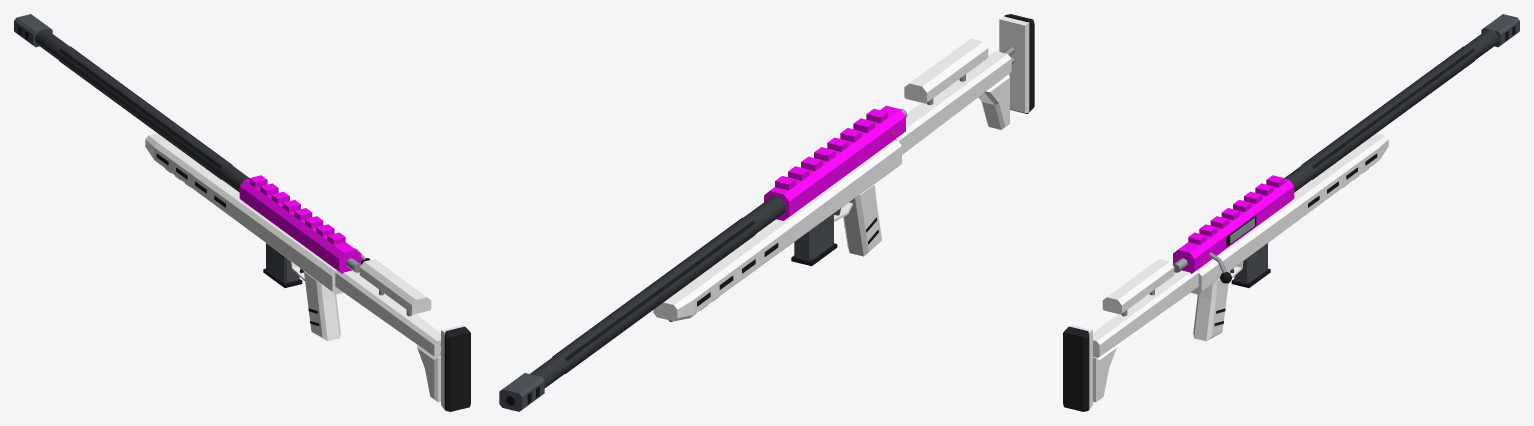
The model's file is rifle_sniper.glb.
The picture shows the model from 3 angles, left to right: view 1: azimuth 30°, elevation 25°; view 2: azimuth 150°, elevation 25°; view 3: azimuth 330°, elevation 25°; orthographic projection. The views are drawn at different scales.
Parts seen in each view (by area): view 1: rifle_sniper__body, rifle_sniper__mag; view 2: rifle_sniper__body, rifle_sniper__mag; view 3: rifle_sniper__body, rifle_sniper__mag, rifle_sniper__bolt.
Part boxes in pixels (x1,y1,x2,y2): rifle_sniper__body: (14,14,470,411); rifle_sniper__mag: (263,243,302,287); rifle_sniper__body: (499,14,1034,411); rifle_sniper__mag: (791,213,837,266); rifle_sniper__body: (1063,14,1519,411); rifle_sniper__mag: (1231,243,1270,287); rifle_sniper__bolt: (1173,218,1254,283).
Size of the model in its own units: 0.0778 by 0.171 by 1.25.
Materials: 1 (1 with a texture image).
